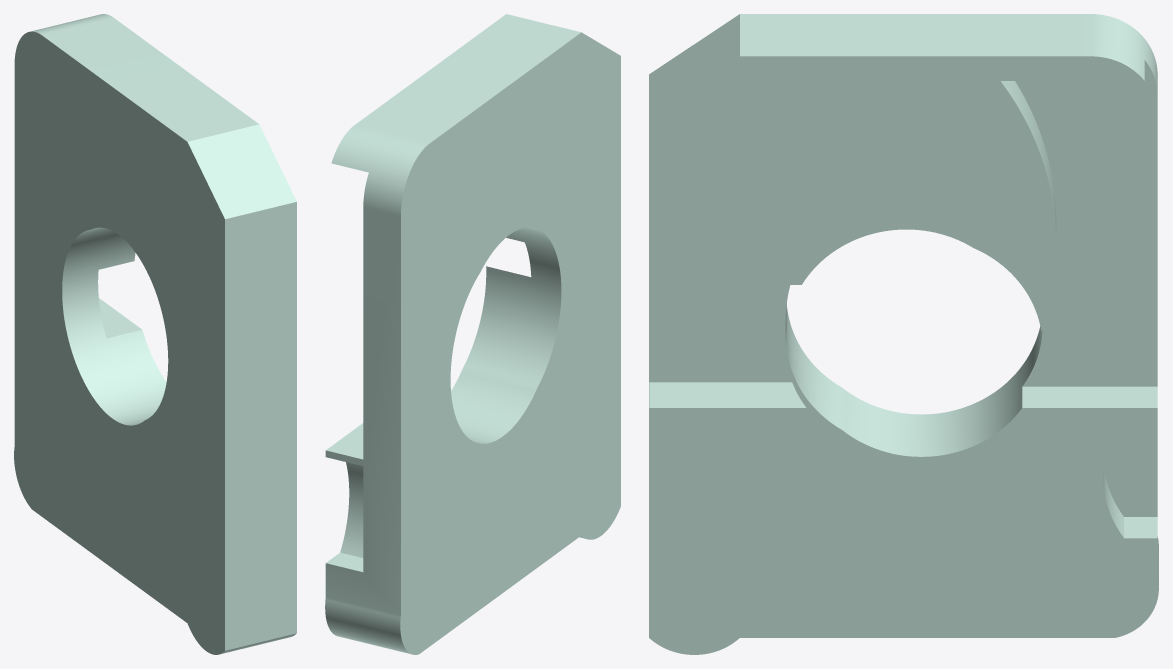
3 views of the same model, side by side, from view 1: azimuth 30°, elevation 25°; view 2: azimuth 150°, elevation 25°; view 3: azimuth 270°, elevation 25° (orthographic). The views are drawn at different scales.
Parts seen in each view (by area): view 1: Renderer Node; view 2: Renderer Node; view 3: Renderer Node.
Boxes of the visible parts, x1,y1,x2,y2 form: Renderer Node: (14,14,296,654); Renderer Node: (325,14,620,654); Renderer Node: (649,14,1158,654).
Bounding box in the file's own units: 0.2344 × 1.54 × 1.19.
